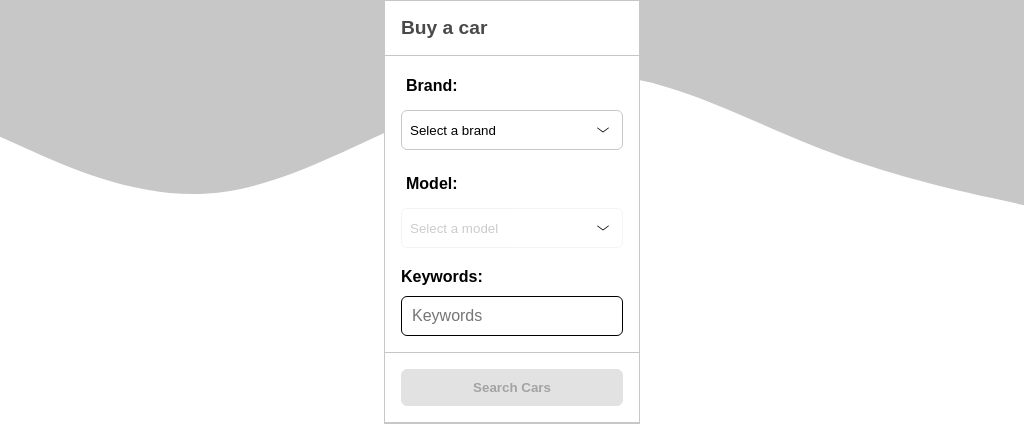
CarFormContainer › should enable the button when keywords is not empty
The width and height of the screenshot is (1024, 441).
Check: the button "Search Cars" is disabled, box [401,369,623,406]
Type "a" into the field with placeholder "Keywords" at point(512, 316), box [401,296,623,336]
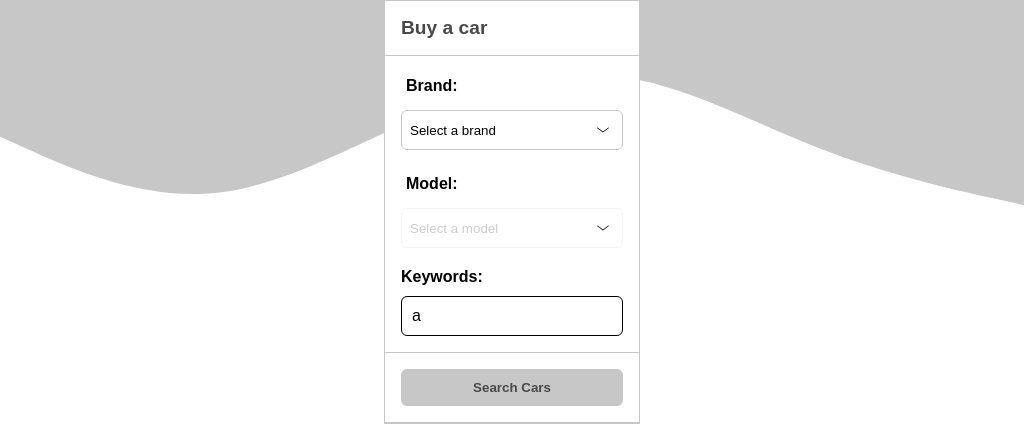
Check: the button "Search Cars" is enabled, box [401,369,623,406]
